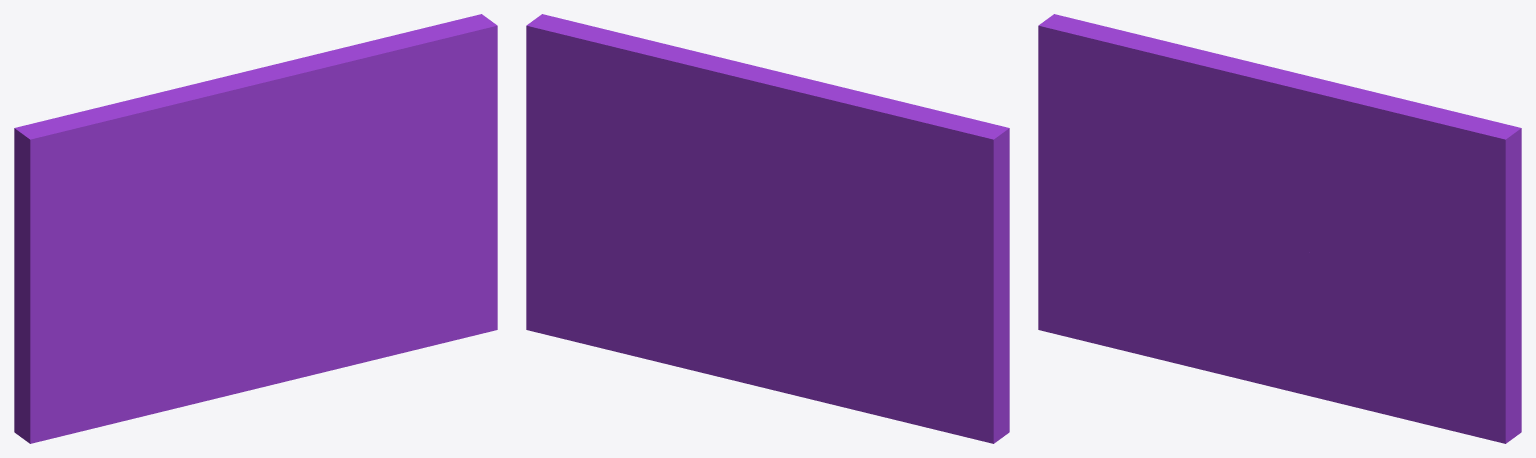
The model's file is Barrier_119_chunks.fbx.
3 renders of one model, left to right at view 1: azimuth 30°, elevation 25°; view 2: azimuth 150°, elevation 25°; view 3: azimuth 330°, elevation 25°, orthographic.
Visible parts, largest first — view 1: Barrier_119_0, Barrier_119_2, Barrier_119_5, Barrier_119_4, Barrier_119_6, Barrier_119_1; view 2: Barrier_119_0, Barrier_119_2, Barrier_119_1, Barrier_119_5, Barrier_119_4, Barrier_119_3; view 3: Barrier_119_0, Barrier_119_2, Barrier_119_5, Barrier_119_4, Barrier_119_6, Barrier_119_1.
Part boxes in pixels (<box>): Barrier_119_0: <box>14,82,256,443</box>; Barrier_119_2: <box>201,14,497,236</box>; Barrier_119_5: <box>113,257,340,423</box>; Barrier_119_4: <box>341,237,497,367</box>; Barrier_119_6: <box>241,229,425,301</box>; Barrier_119_1: <box>371,183,497,246</box>; Barrier_119_0: <box>764,86,1009,443</box>; Barrier_119_2: <box>526,14,836,202</box>; Barrier_119_1: <box>526,117,768,285</box>; Barrier_119_5: <box>690,285,896,420</box>; Barrier_119_4: <box>526,268,690,369</box>; Barrier_119_3: <box>659,253,793,323</box>; Barrier_119_0: <box>1038,14,1264,349</box>; Barrier_119_2: <box>1210,59,1521,297</box>; Barrier_119_5: <box>1122,246,1349,405</box>; Barrier_119_4: <box>1349,316,1521,443</box>; Barrier_119_6: <box>1249,234,1433,339</box>; Barrier_119_1: <box>1379,220,1521,387</box>.
Bounding box in the file's own units: 462 × 288 × 27.2.
